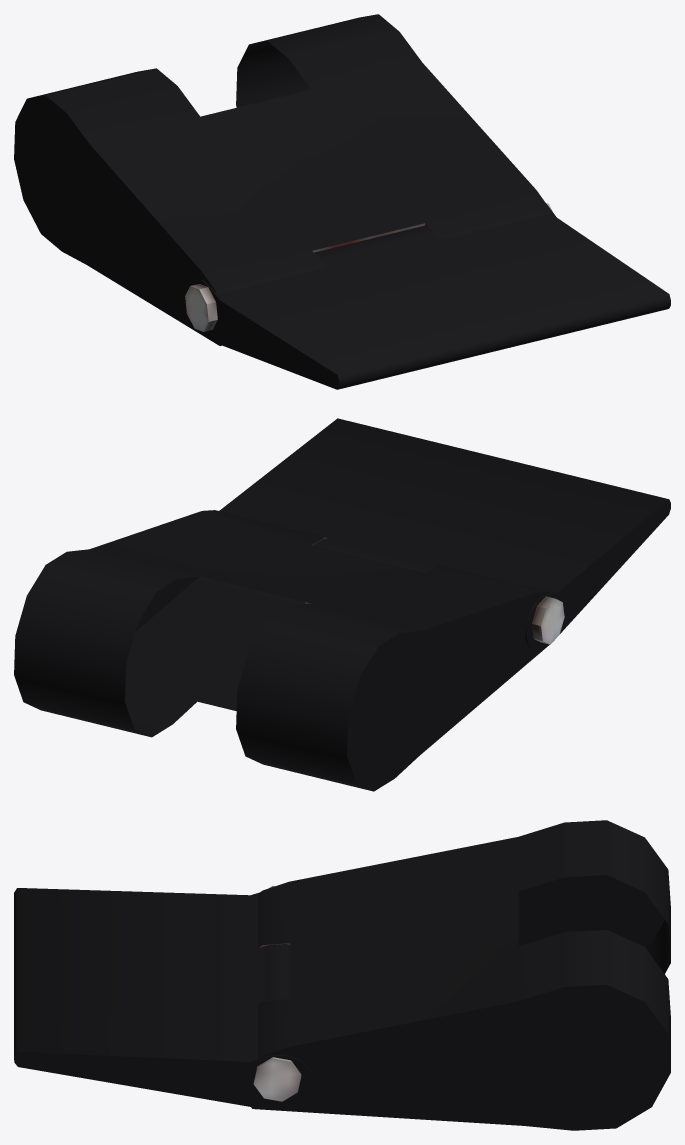
The model's file is thumbA.obj.
3 views of the same model, one above another, from view 1: azimuth 30°, elevation 25°; view 2: azimuth 150°, elevation 25°; view 3: azimuth 270°, elevation 25° (orthographic).
Parts seen in each view (by area): view 1: wall_e:hand_lowpolySurface397, wall_e:hand_lowpolySurface405, wall_e:hand_lowpolySurface398, wall_e:hand_lowpolySurface406, wall_e:hand_lowpolySurface413; view 2: wall_e:hand_lowpolySurface397, wall_e:hand_lowpolySurface405, wall_e:hand_lowpolySurface398, wall_e:hand_lowpolySurface406, wall_e:hand_lowpolySurface399, wall_e:hand_lowpolySurface413; view 3: wall_e:hand_lowpolySurface397, wall_e:hand_lowpolySurface405, wall_e:hand_lowpolySurface399, wall_e:hand_lowpolySurface407, wall_e:hand_lowpolySurface398, wall_e:hand_lowpolySurface414.
Part boxes in pixels (<box>): wall_e:hand_lowpolySurface397: <box>29,14,551,345</box>; wall_e:hand_lowpolySurface405: <box>194,206,670,389</box>; wall_e:hand_lowpolySurface398: <box>14,95,220,345</box>; wall_e:hand_lowpolySurface406: <box>191,280,339,389</box>; wall_e:hand_lowpolySurface413: <box>185,286,208,331</box>; wall_e:hand_lowpolySurface397: <box>14,510,548,791</box>; wall_e:hand_lowpolySurface405: <box>219,418,668,650</box>; wall_e:hand_lowpolySurface398: <box>347,591,554,791</box>; wall_e:hand_lowpolySurface406: <box>527,499,670,651</box>; wall_e:hand_lowpolySurface399: <box>135,576,199,631</box>; wall_e:hand_lowpolySurface413: <box>541,598,564,644</box>; wall_e:hand_lowpolySurface397: <box>258,820,670,1069</box>; wall_e:hand_lowpolySurface405: <box>14,888,311,1080</box>; wall_e:hand_lowpolySurface399: <box>251,984,670,1130</box>; wall_e:hand_lowpolySurface407: <box>14,1051,311,1108</box>; wall_e:hand_lowpolySurface398: <box>518,875,664,946</box>; wall_e:hand_lowpolySurface414: <box>253,1058,301,1101</box>.
Size of the model in its own units: 45.25 by 17.85 by 72.75.
Materials: 2 (1 with a texture image).
